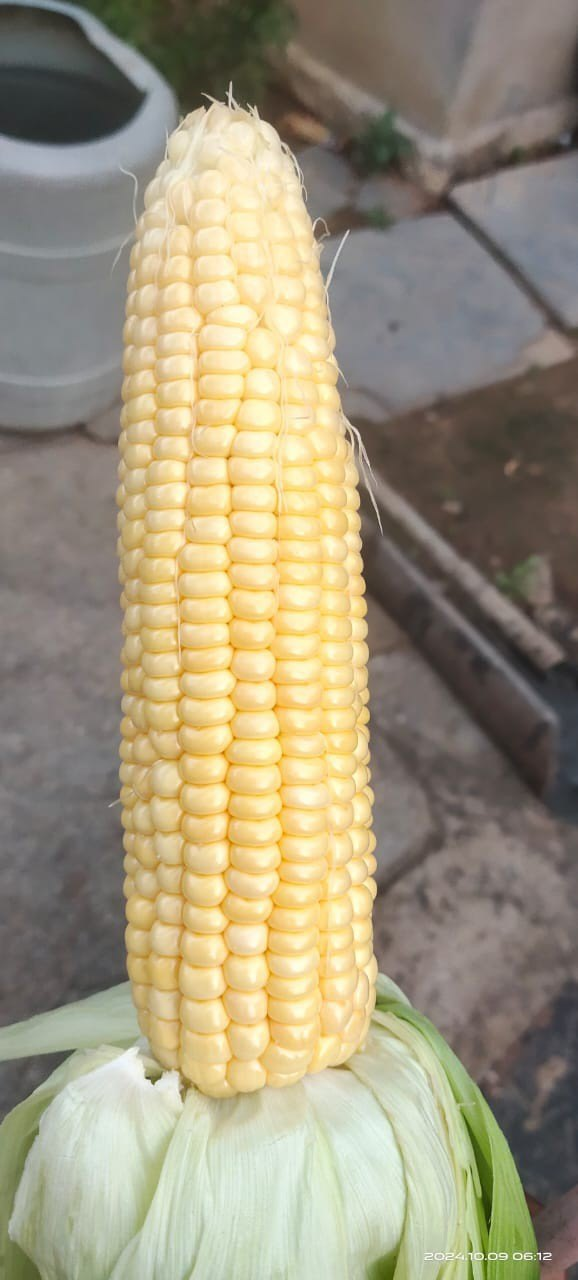corn: (115, 111, 415, 1129)
